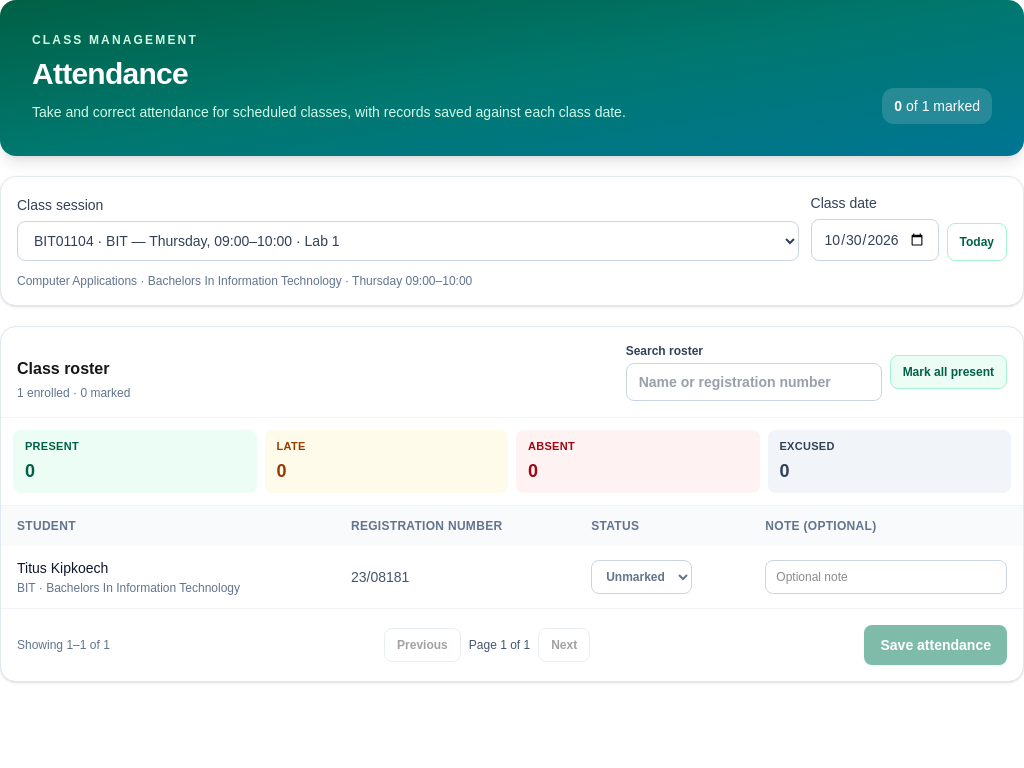
it: lecturer attendance page › saves attendance for marked students
This screenshot has width=1024, height=768.
Expected: the text "Titus Kipkoech" is shown, [17, 560, 108, 576]
Select "Present" in the dropdown named "Attendance for Titus Kipkoech" at [642, 576], box [591, 560, 692, 594]
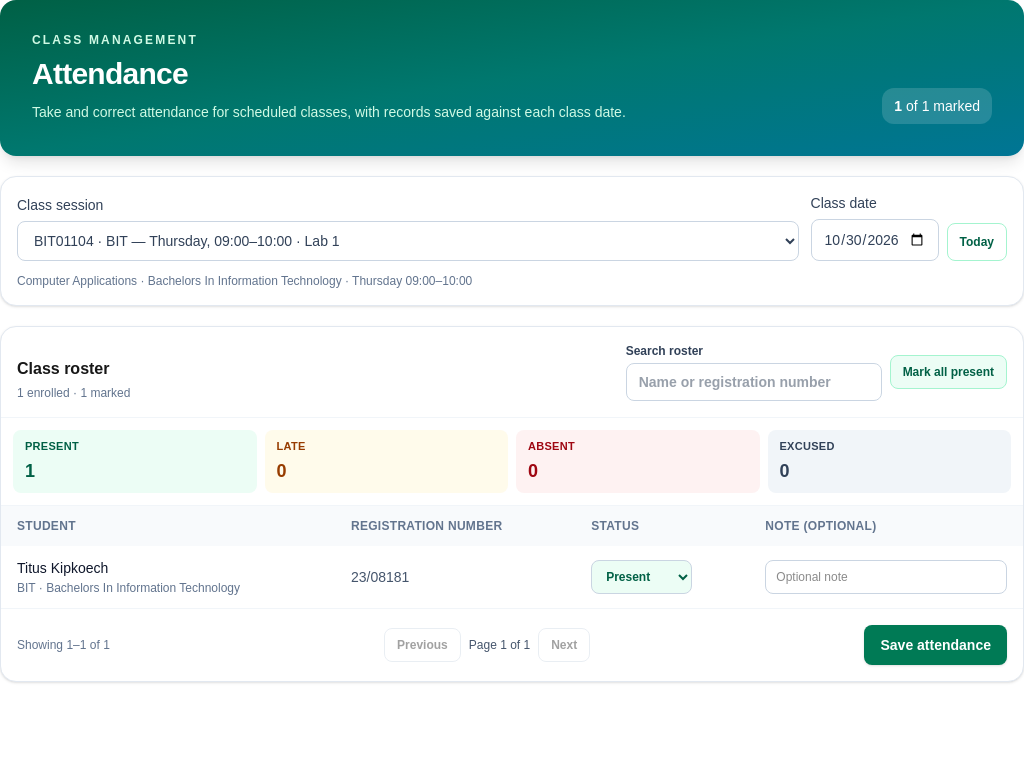
Click the button "Save attendance" at [936, 644], box [864, 624, 1007, 664]
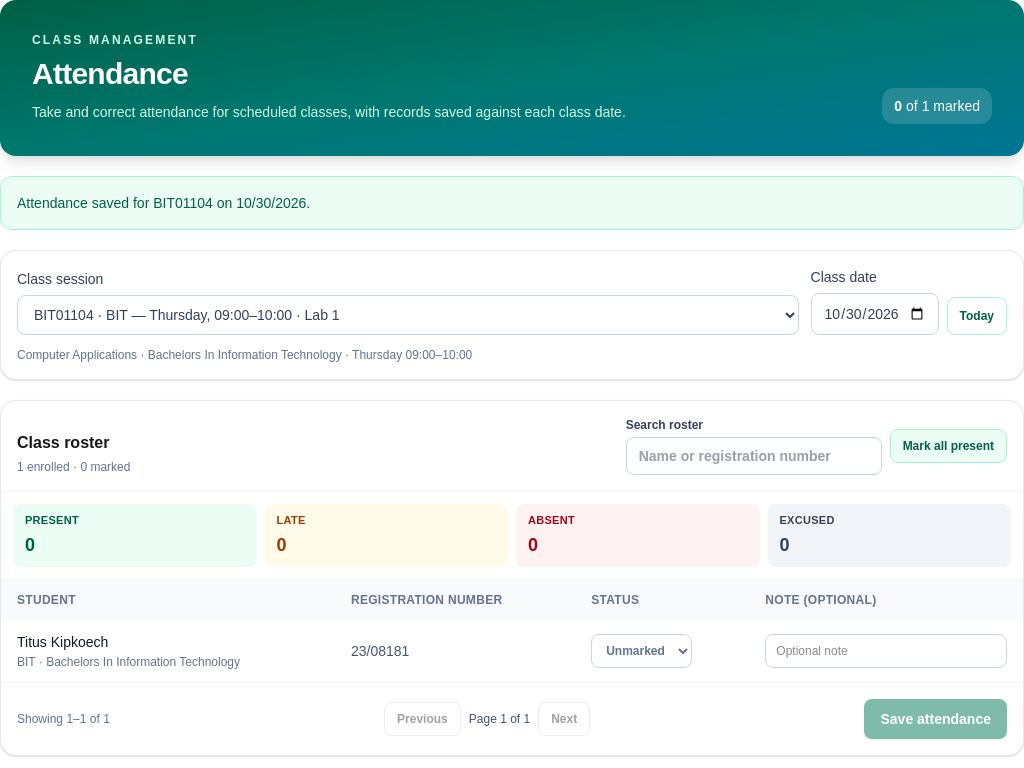
Now the message shows "Attendance saved", box [17, 195, 310, 211]
